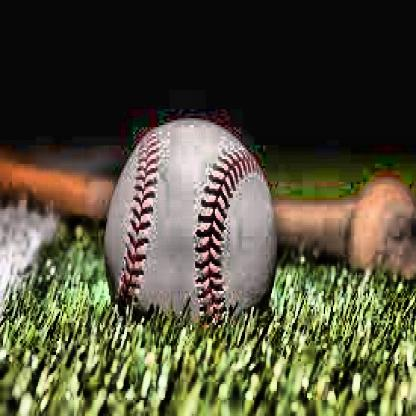baseball: (105, 120, 277, 320)
